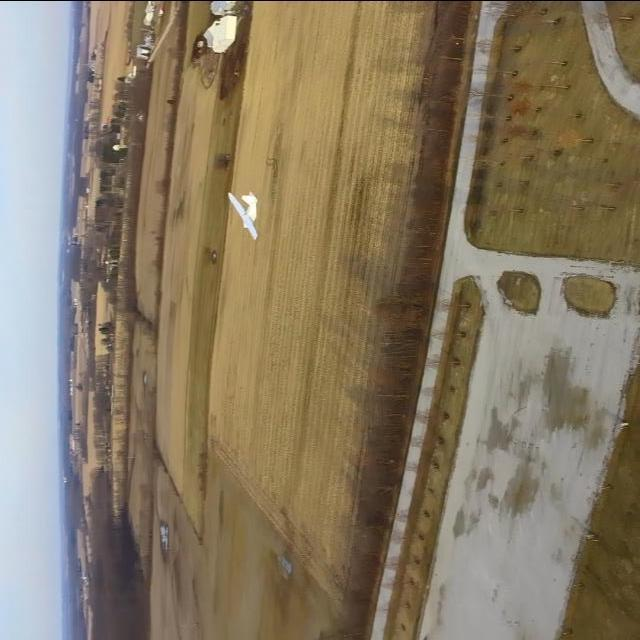iha: (235, 109, 280, 242)
